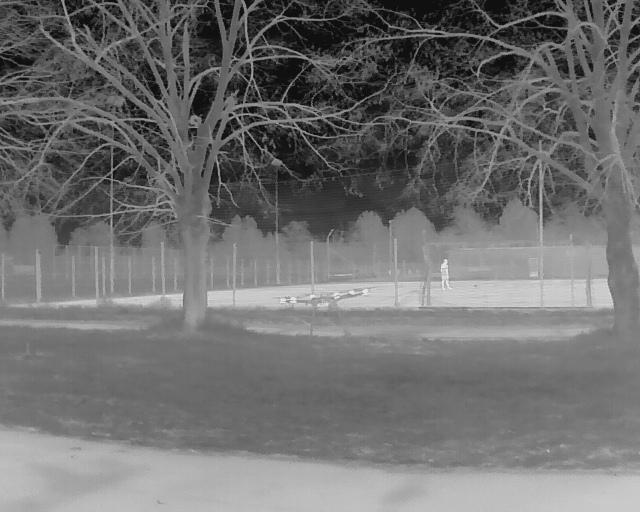drone: (269, 272, 385, 345)
